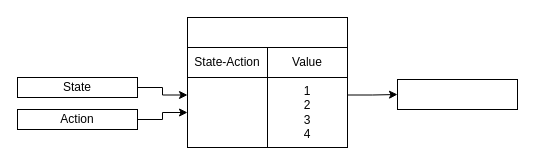
Image size: 535x165. Some labels were removed from this diagram. Here are the shapes that lost their labels. From the top down, the centre of each, then its label:
At point 267,32: "Q-Table".
At point 227,112: "s,a s,a' s',a s',a'".
At point 457,94: "Q-Value".
